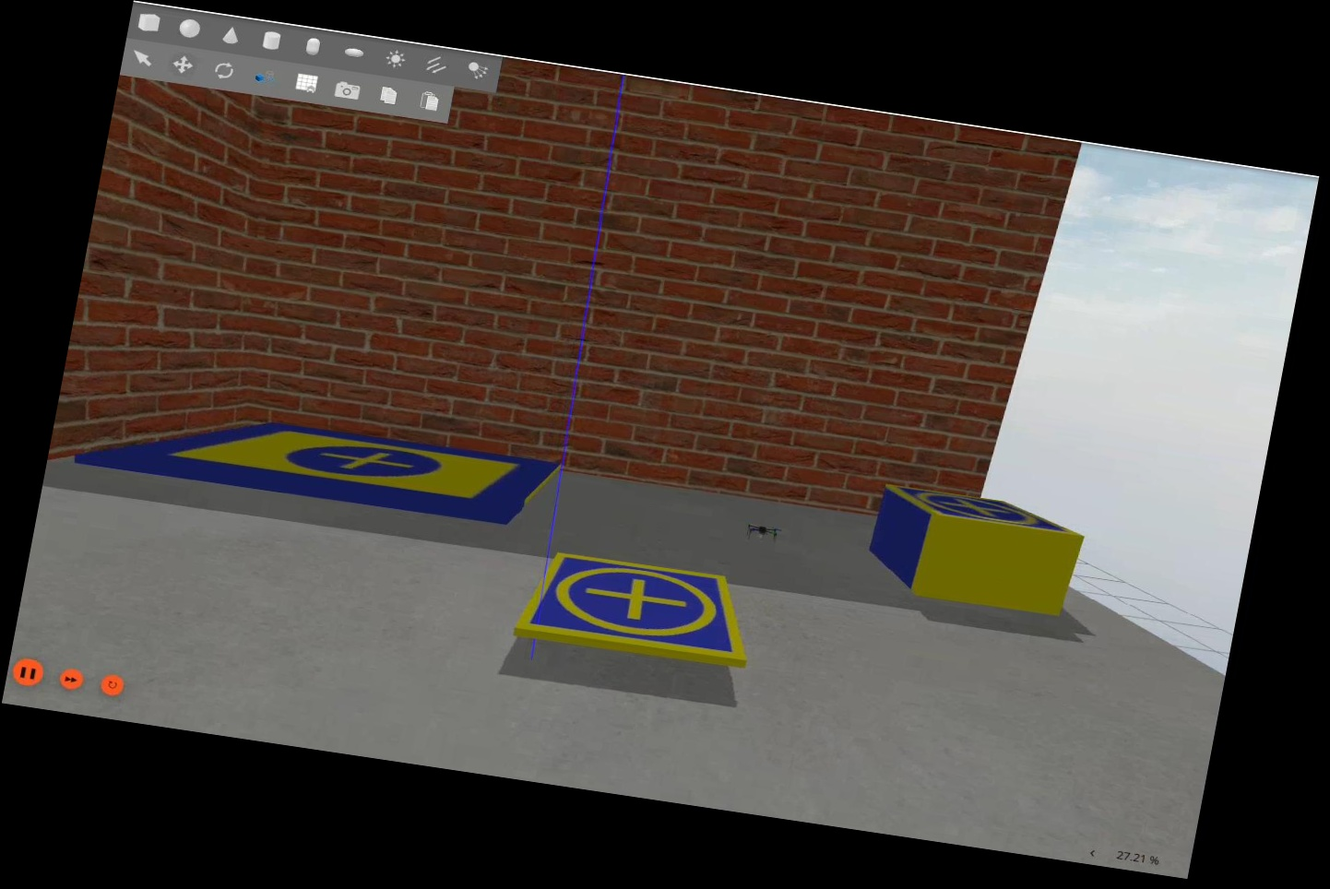large_base: (79, 392, 563, 531)
small_base: (514, 547, 765, 671), (880, 480, 1087, 543)
